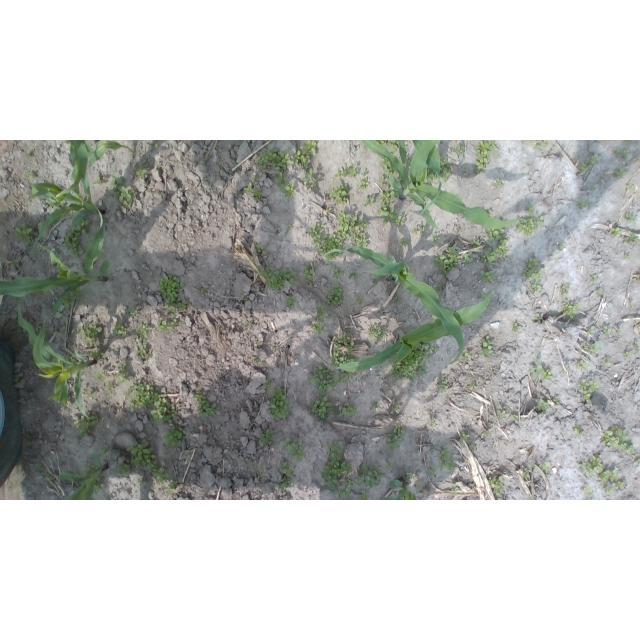Maize: (323, 243, 466, 366), (361, 141, 520, 230), (339, 292, 493, 374), (0, 208, 110, 314), (15, 304, 95, 421), (29, 140, 89, 245), (55, 140, 134, 198), (57, 452, 108, 500), (385, 480, 416, 500)
Weeds: (126, 438, 171, 484), (322, 438, 353, 490), (157, 274, 187, 316), (337, 210, 368, 248), (125, 379, 158, 412), (601, 425, 636, 455), (108, 172, 136, 209), (64, 220, 90, 258), (402, 342, 439, 368), (432, 243, 460, 277), (312, 234, 344, 263), (258, 148, 293, 173), (378, 187, 400, 225), (310, 365, 336, 395), (257, 264, 284, 292), (476, 140, 499, 172), (191, 391, 217, 419), (268, 387, 290, 419), (151, 399, 178, 425), (295, 140, 318, 169), (73, 412, 99, 437), (310, 395, 335, 421), (76, 322, 103, 346), (600, 468, 624, 494), (357, 463, 380, 490), (391, 364, 425, 382), (272, 173, 296, 198), (331, 347, 357, 369), (517, 216, 544, 236), (164, 426, 187, 448), (579, 379, 600, 403), (63, 288, 87, 309), (323, 284, 344, 308), (386, 423, 405, 449), (523, 257, 543, 281), (531, 360, 553, 381), (581, 456, 603, 477), (282, 438, 302, 461), (15, 223, 35, 245), (83, 453, 102, 476), (114, 362, 132, 386), (329, 184, 349, 205), (337, 480, 358, 500), (440, 445, 456, 469), (562, 300, 581, 320), (244, 184, 264, 203), (485, 228, 507, 245), (335, 164, 358, 180), (368, 325, 387, 343), (488, 475, 505, 495), (440, 157, 453, 183), (259, 429, 277, 446), (481, 247, 496, 267), (158, 317, 179, 331), (136, 322, 152, 340), (48, 197, 67, 212), (480, 336, 493, 357), (304, 168, 317, 188), (382, 156, 395, 176), (112, 324, 128, 339), (337, 371, 353, 386), (308, 222, 325, 236), (624, 231, 640, 245), (479, 269, 495, 283), (280, 462, 294, 478), (283, 268, 296, 285), (535, 398, 549, 413), (135, 164, 148, 180), (436, 376, 449, 392), (278, 479, 292, 493), (311, 321, 325, 335), (343, 404, 358, 417), (316, 305, 328, 321), (615, 147, 632, 158), (304, 265, 315, 282), (539, 461, 553, 474), (164, 481, 176, 496), (496, 245, 508, 259), (335, 335, 350, 346), (118, 463, 131, 475), (255, 244, 268, 256), (284, 296, 296, 309), (560, 284, 571, 298), (137, 345, 148, 359), (578, 160, 590, 172), (616, 168, 629, 179), (332, 268, 343, 281), (414, 226, 428, 236), (609, 227, 623, 237), (90, 349, 104, 359), (576, 361, 588, 372), (461, 349, 472, 361), (388, 140, 399, 152), (427, 170, 438, 182), (95, 368, 106, 380), (129, 307, 142, 317), (262, 380, 272, 393), (395, 216, 405, 228), (100, 445, 112, 455), (535, 140, 548, 149), (464, 252, 473, 265), (94, 176, 107, 185), (625, 182, 635, 193), (365, 195, 376, 205), (359, 178, 369, 189), (432, 232, 441, 244), (591, 342, 600, 353), (527, 204, 536, 215), (627, 212, 638, 221), (400, 239, 411, 248), (404, 471, 413, 482), (530, 284, 542, 292), (456, 144, 464, 156), (25, 171, 37, 179), (590, 154, 599, 164), (249, 175, 259, 184), (434, 283, 443, 293), (603, 357, 612, 367), (512, 323, 521, 333), (578, 200, 588, 209), (380, 175, 389, 185), (460, 432, 470, 441), (603, 325, 611, 336), (493, 180, 504, 188), (522, 468, 530, 479), (452, 485, 460, 496), (500, 410, 509, 419), (472, 239, 481, 248), (349, 271, 358, 280), (587, 325, 595, 335), (486, 208, 496, 216), (106, 383, 114, 393), (391, 406, 401, 414), (373, 401, 380, 412), (552, 397, 560, 406), (574, 428, 583, 436), (590, 275, 598, 284), (385, 460, 393, 469), (36, 463, 45, 471), (536, 313, 542, 324), (357, 296, 365, 304), (624, 351, 632, 359), (152, 143, 160, 151), (252, 356, 260, 364), (360, 492, 368, 500), (199, 288, 207, 296), (628, 301, 637, 308), (469, 444, 476, 453), (484, 428, 491, 437), (597, 288, 604, 297), (15, 375, 22, 384), (430, 466, 436, 476), (584, 489, 592, 496), (245, 320, 252, 328), (573, 153, 580, 161), (557, 244, 565, 251), (624, 252, 632, 259), (633, 156, 640, 164), (47, 476, 54, 484), (405, 156, 411, 165), (48, 273, 57, 279), (633, 343, 640, 350), (422, 196, 429, 203), (26, 150, 33, 157), (65, 357, 72, 364), (87, 390, 94, 397), (470, 382, 476, 390), (615, 327, 621, 335), (396, 296, 402, 304), (35, 245, 39, 257), (429, 419, 435, 427), (243, 295, 250, 301), (512, 413, 518, 420), (583, 341, 588, 349), (524, 140, 532, 145), (377, 140, 387, 144), (258, 467, 264, 473), (592, 185, 597, 192), (564, 364, 571, 369), (635, 275, 640, 282), (416, 482, 421, 489), (373, 278, 378, 284), (626, 140, 632, 145), (37, 324, 43, 329), (362, 171, 368, 176), (16, 261, 21, 266), (274, 344, 279, 349), (327, 207, 331, 213), (69, 210, 77, 213), (497, 497, 504, 500), (287, 225, 291, 230), (250, 464, 255, 468), (637, 459, 640, 465), (0, 260, 2, 268), (562, 371, 566, 375), (138, 141, 143, 144)
